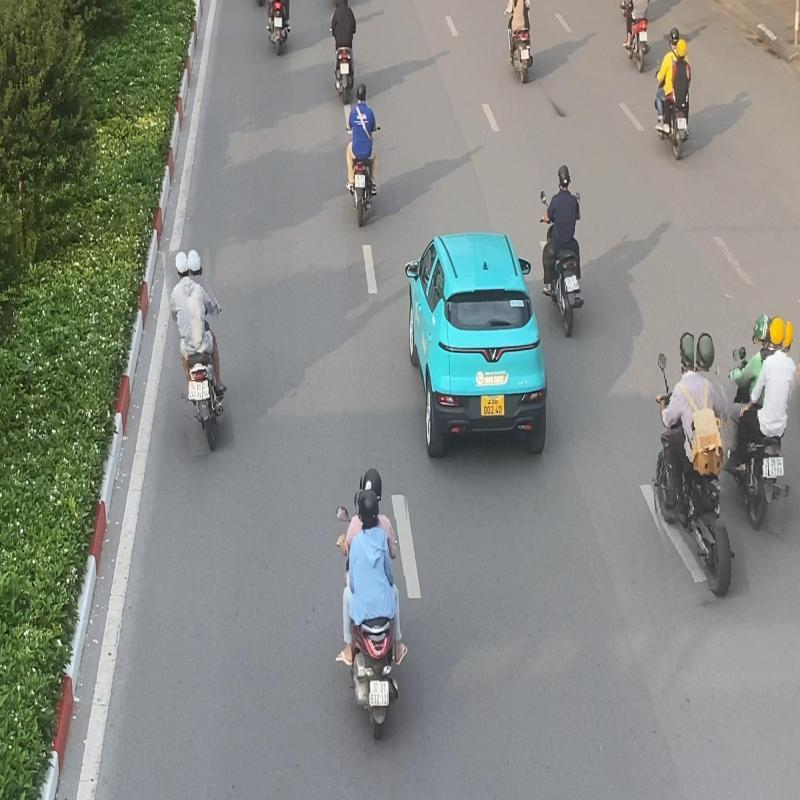helmet: (356, 490, 380, 526), (694, 331, 715, 372), (768, 314, 786, 351), (362, 468, 382, 500), (754, 312, 772, 346), (187, 248, 203, 276), (557, 163, 570, 188)
licenseplate: (368, 680, 389, 706), (188, 380, 204, 401), (768, 456, 784, 477), (564, 274, 580, 292)
motorcyclist: (642, 327, 742, 605), (332, 466, 410, 744), (722, 311, 799, 532), (168, 248, 229, 456), (537, 161, 588, 338)
